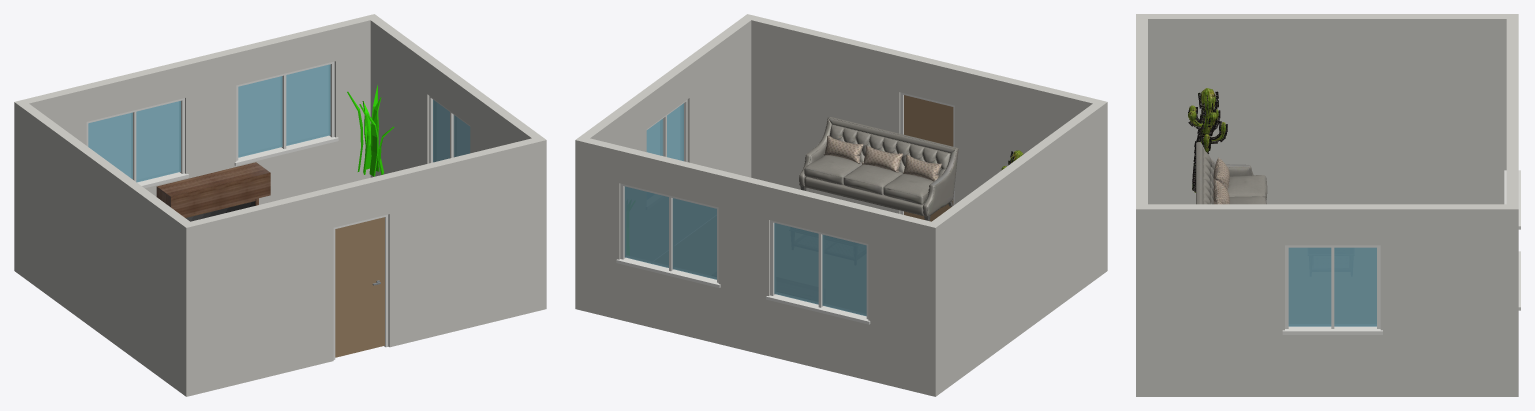
Rendered from layoutgpt.glb.
The picture shows the model from 3 angles, left to right: view 1: azimuth 30°, elevation 25°; view 2: azimuth 150°, elevation 25°; view 3: azimuth 270°, elevation 25°; orthographic projection. The views are drawn at different scales.
Visible parts, largest first — view 1: wall|scenesmith_007__R00|0, wall|scenesmith_007__R00|2, wall|scenesmith_007__R00|1, wall|scenesmith_007__R00|3, wall|scenesmith_007__R00|1 Window 0 | glazing, wall|scenesmith_007__R00|0 Door 0 | wood leaf, raw_model.002, wall|scenesmith_007__R00|1 Window 0 | jamb, wall|scenesmith_007__R00|3 Window 0 | glazing, scenesmith_007__R00_5, wall|scenesmith_007__R00|0 Door 0 | jamb, wall|scenesmith_007__R00|3 Window 0 | jamb; view 2: wall|scenesmith_007__R00|1, wall|scenesmith_007__R00|2, wall|scenesmith_007__R00|0, wall|scenesmith_007__R00|3, wall|scenesmith_007__R00|1 Window 0 | glazing, raw_model, wall|scenesmith_007__R00|1 Window 0 | jamb, wall|scenesmith_007__R00|0 Door 0 | wood leaf, wall|scenesmith_007__R00|3 Window 0 | glazing, wall|scenesmith_007__R00|3 Window 0 | jamb; view 3: wall|scenesmith_007__R00|2, wall|scenesmith_007__R00|3, wall|scenesmith_007__R00|3 Window 0 | glazing, wall|scenesmith_007__R00|1, wall|scenesmith_007__R00|0, raw_model, wall|scenesmith_007__R00|3 Window 0 | jamb, scenesmith_007__R00_4, wall|scenesmith_007__R00|1 Window 0 | jamb.
Part boxes in pixels (x1,y1,x2,y2): wall|scenesmith_007__R00|0: (181,136,545,394); wall|scenesmith_007__R00|2: (15,99,195,396); wall|scenesmith_007__R00|1: (14,16,370,274); wall|scenesmith_007__R00|3: (365,14,546,311); wall|scenesmith_007__R00|1 Window 0 | glazing: (88,64,330,182); wall|scenesmith_007__R00|0 Door 0 | wood leaf: (335,217,384,357); raw_model.002: (156,162,270,217); wall|scenesmith_007__R00|1 Window 0 | jamb: (86,61,338,188); wall|scenesmith_007__R00|3 Window 0 | glazing: (433,99,470,162); scenesmith_007__R00_5: (347,85,394,176); wall|scenesmith_007__R00|0 Door 0 | jamb: (333,214,388,359); wall|scenesmith_007__R00|3 Window 0 | jamb: (429,96,470,163); wall|scenesmith_007__R00|1: (584,138,940,396); wall|scenesmith_007__R00|2: (926,102,1107,396); wall|scenesmith_007__R00|0: (742,14,1106,213); wall|scenesmith_007__R00|3: (575,18,751,311); wall|scenesmith_007__R00|1 Window 0 | glazing: (624,186,866,316); raw_model: (799,116,958,220); wall|scenesmith_007__R00|1 Window 0 | jamb: (616,183,870,324); wall|scenesmith_007__R00|0 Door 0 | wood leaf: (904,95,953,221); wall|scenesmith_007__R00|3 Window 0 | glazing: (646,103,683,161); wall|scenesmith_007__R00|3 Window 0 | jamb: (646,99,687,161); wall|scenesmith_007__R00|2: (1148,14,1518,204); wall|scenesmith_007__R00|3: (1148,204,1518,396); wall|scenesmith_007__R00|3 Window 0 | glazing: (1288,247,1376,326); wall|scenesmith_007__R00|1: (1506,19,1518,396); wall|scenesmith_007__R00|0: (1136,14,1147,396); raw_model: (1196,142,1267,204); wall|scenesmith_007__R00|3 Window 0 | jamb: (1282,245,1382,334); scenesmith_007__R00_4: (1188,88,1227,192); wall|scenesmith_007__R00|1 Window 0 | jamb: (1504,170,1520,310).
Size of the model in its own units: 5.83 by 2.61 by 4.83.
Materials: 12 (6 with a texture image).
